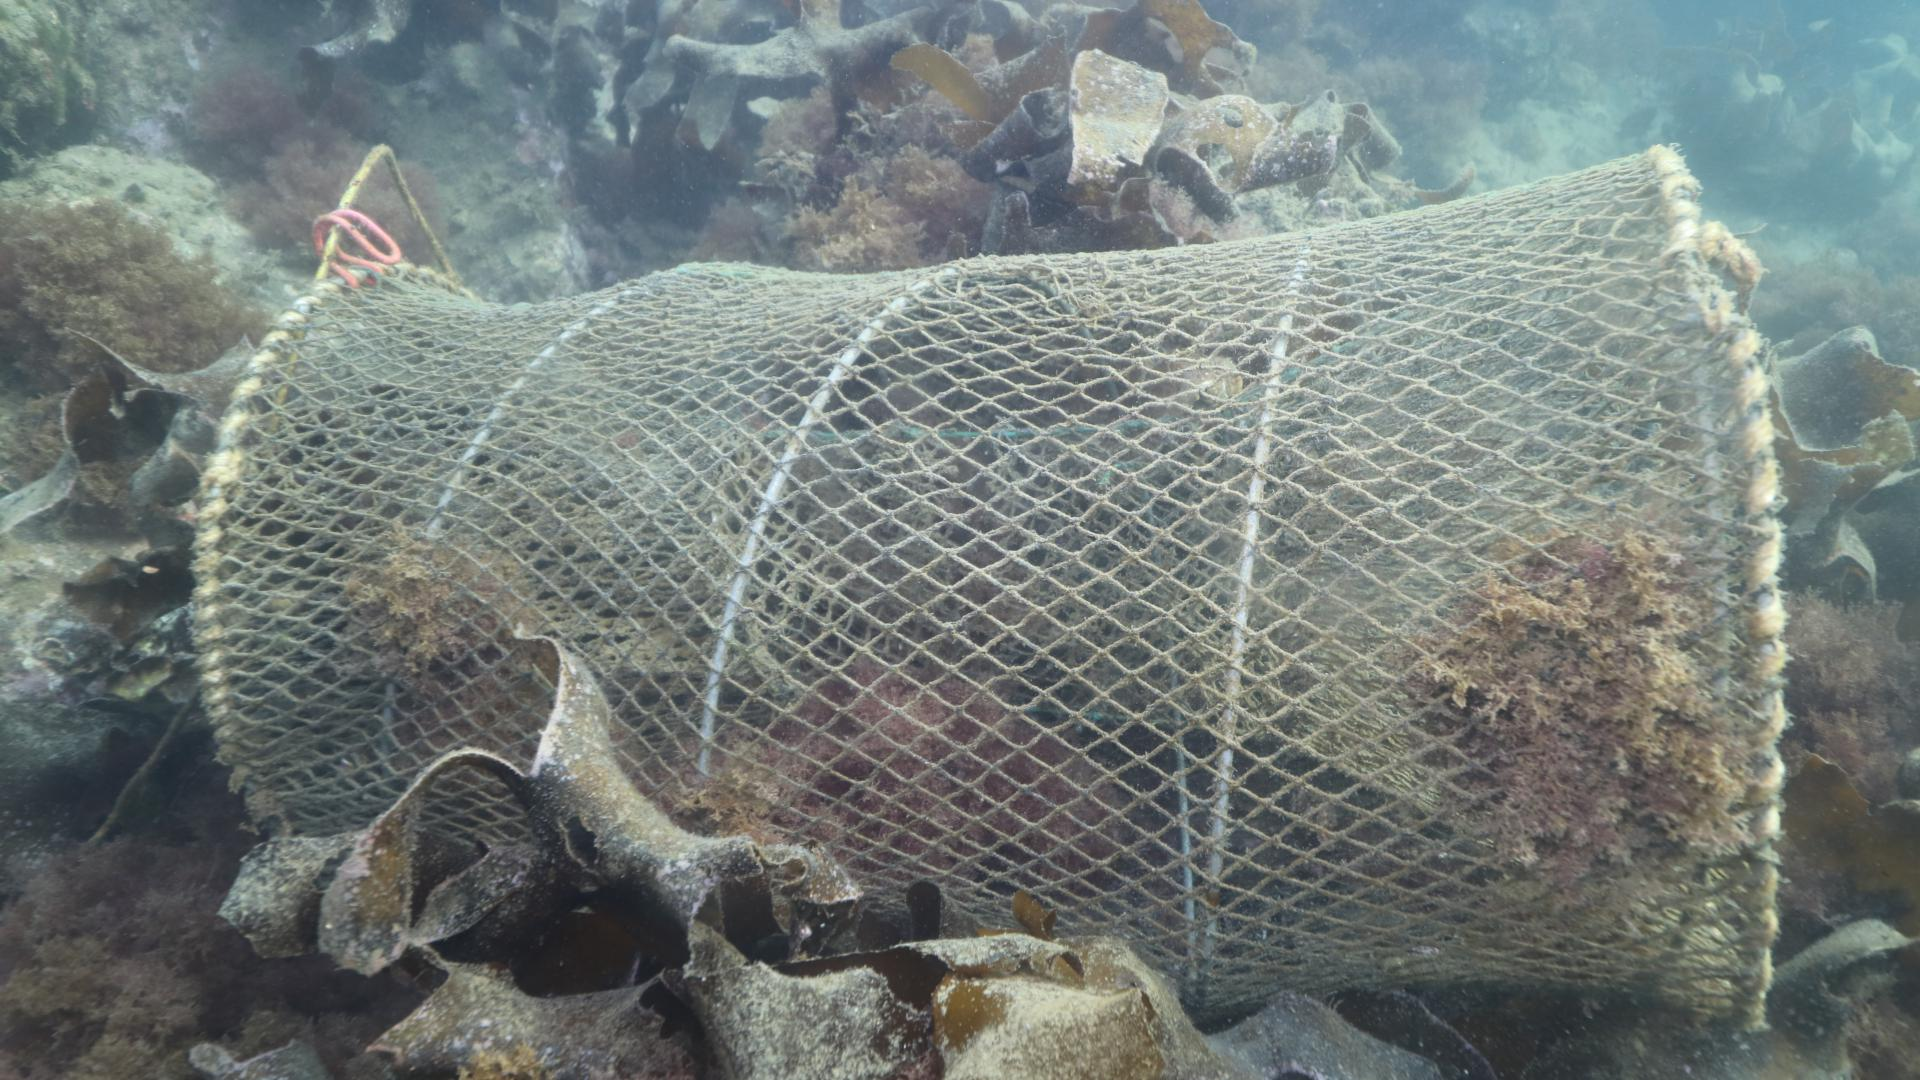spring fish trap: (190, 142, 1785, 1021)
